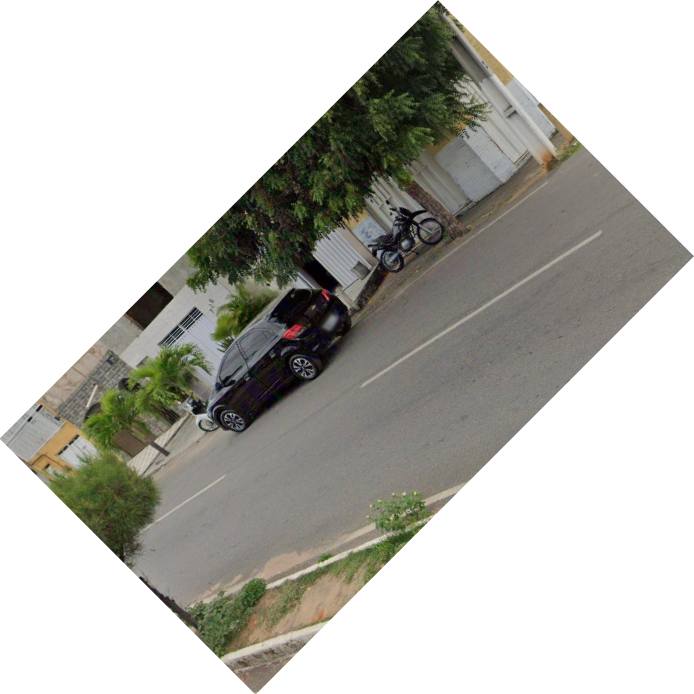car: (202, 285, 356, 444)
